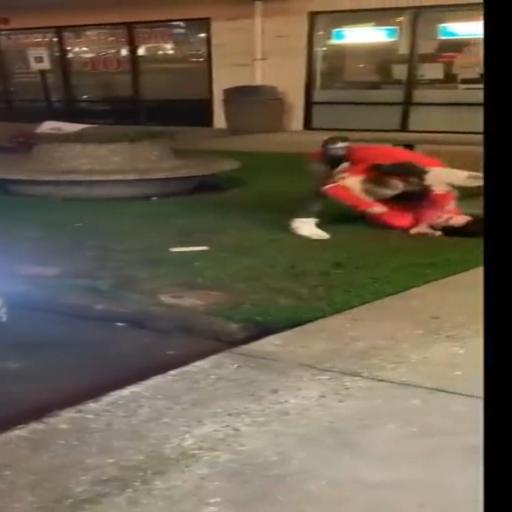violencia: (262, 125, 488, 246)
